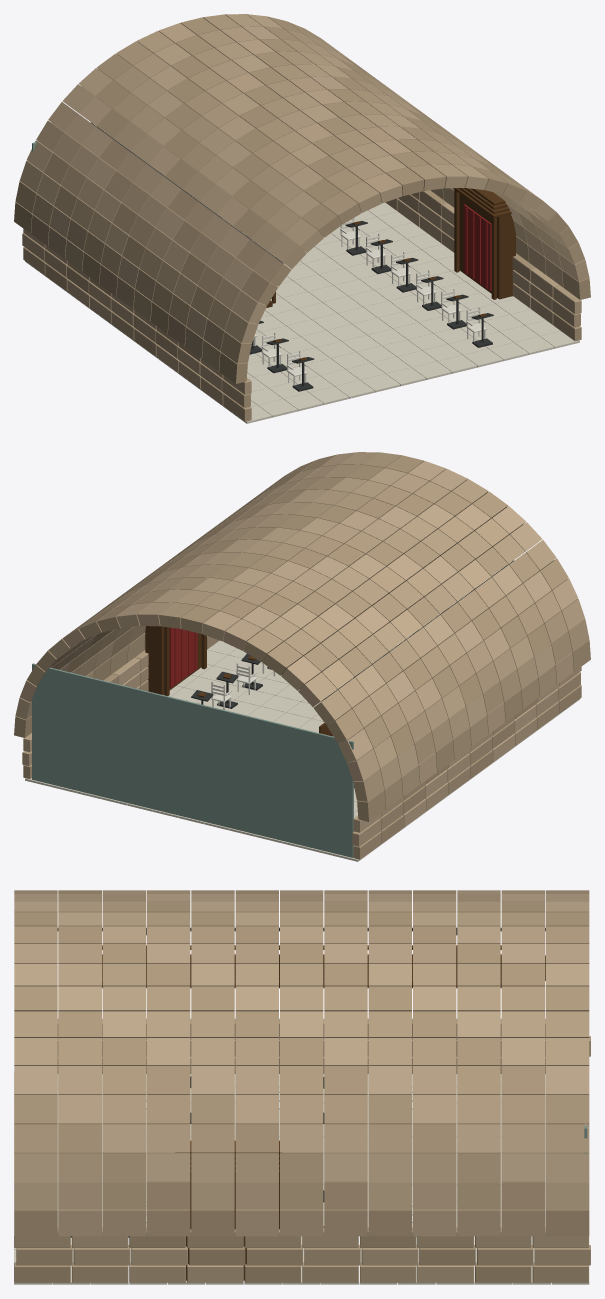
Rendered from wilson-prayer-hall-v147.glb.
The picture shows the model from 3 angles, top to bottom: view 1: azimuth 30°, elevation 25°; view 2: azimuth 150°, elevation 25°; view 3: azimuth 270°, elevation 25°; orthographic projection. The views are drawn at different scales.
Parts seen in each view (by area): view 1: Wilson_Pale_Polished_Paving, Wilson_Meleke_Aged_0, Wilson_Meleke_Aged_2, Wilson_Meleke_Aged_1, Wilson_Meleke_Aged_3, Wilson_Dark_Carved_Wood, Wilson_Ivory_Plastic_Chairs, Wilson_Black_Lectern_Steel, Wilson_Ark_Burgundy_Velvet; view 2: Wilson_Rear_Green_Partition, Wilson_Meleke_Aged_1, Wilson_Meleke_Aged_2, Wilson_Meleke_Aged_0, Wilson_Meleke_Aged_3, Wilson_Pale_Polished_Paving, Wilson_Dark_Carved_Wood, Wilson_Ark_Burgundy_Velvet, Wilson_Black_Lectern_Steel, Wilson_Ivory_Plastic_Chairs; view 3: Wilson_Meleke_Aged_2, Wilson_Meleke_Aged_1, Wilson_Meleke_Aged_0, Wilson_Meleke_Aged_3, Wilson_Pale_Polished_Paving, Wilson_Dark_Carved_Wood.
Part boxes in pixels (bbox=[...]): Wilson_Pale_Polished_Paving: bbox=[25, 202, 579, 423]; Wilson_Meleke_Aged_0: bbox=[14, 16, 590, 421]; Wilson_Meleke_Aged_2: bbox=[19, 14, 584, 394]; Wilson_Meleke_Aged_1: bbox=[15, 14, 580, 407]; Wilson_Meleke_Aged_3: bbox=[23, 14, 589, 378]; Wilson_Dark_Carved_Wood: bbox=[266, 188, 515, 360]; Wilson_Ivory_Plastic_Chairs: bbox=[254, 218, 487, 385]; Wilson_Black_Lectern_Steel: bbox=[90, 122, 493, 391]; Wilson_Ark_Burgundy_Velvet: bbox=[463, 204, 491, 291]; Wilson_Rear_Green_Partition: bbox=[32, 663, 353, 857]; Wilson_Meleke_Aged_1: bbox=[23, 452, 589, 859]; Wilson_Meleke_Aged_2: bbox=[20, 452, 585, 846]; Wilson_Meleke_Aged_0: bbox=[14, 454, 590, 843]; Wilson_Meleke_Aged_3: bbox=[15, 452, 577, 832]; Wilson_Pale_Polished_Paving: bbox=[25, 640, 579, 861]; Wilson_Dark_Carved_Wood: bbox=[145, 626, 332, 736]; Wilson_Ark_Burgundy_Velvet: bbox=[169, 627, 197, 687]; Wilson_Black_Lectern_Steel: bbox=[191, 560, 514, 787]; Wilson_Ivory_Plastic_Chairs: bbox=[186, 662, 275, 709]; Wilson_Meleke_Aged_2: bbox=[14, 890, 590, 1282]; Wilson_Meleke_Aged_1: bbox=[14, 890, 589, 1282]; Wilson_Meleke_Aged_0: bbox=[14, 890, 589, 1282]; Wilson_Meleke_Aged_3: bbox=[14, 890, 589, 1282]; Wilson_Pale_Polished_Paving: bbox=[14, 1071, 589, 1284]; Wilson_Dark_Carved_Wood: bbox=[102, 945, 545, 1280].
Size of the model in its own units: 13.84 by 7.48 by 15.03.
